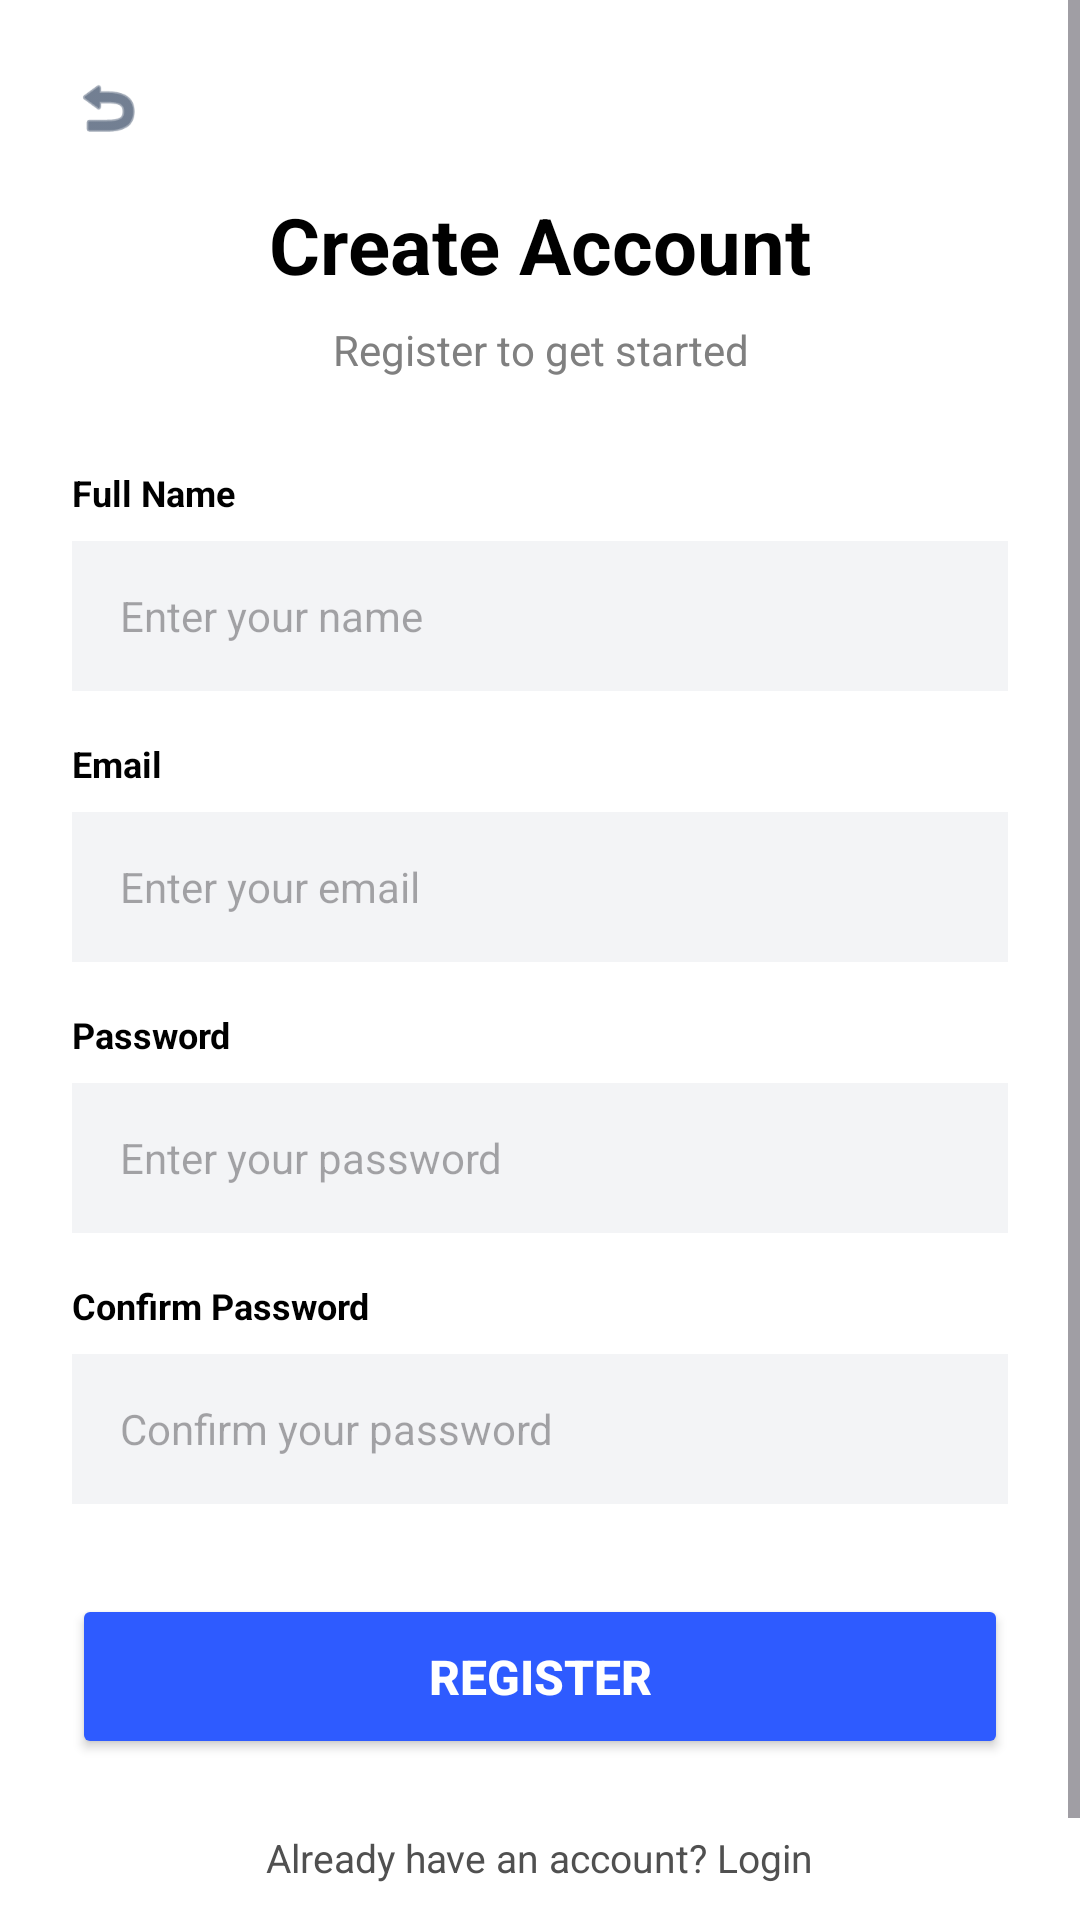

Where to tap for icons on this 1080×1920 app screen, as (x=x, y=y):
revert: (x=109, y=108)
